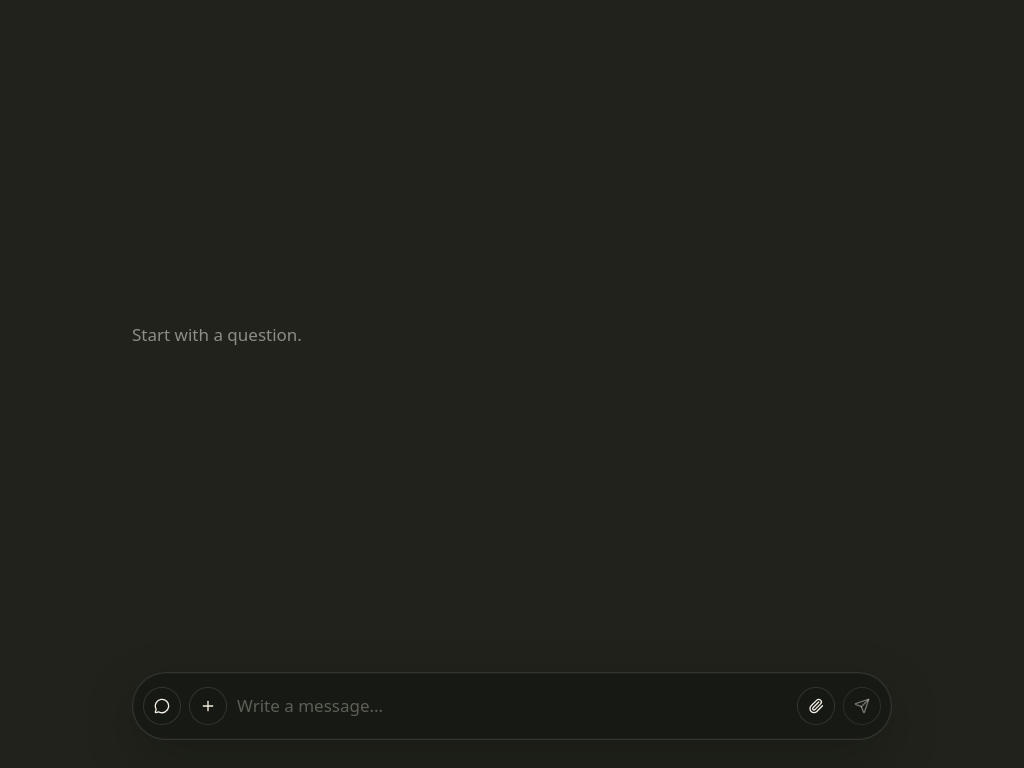
Test case: Noloong app chat regression harness › does not leave the chat inert if the sessions panel action fails
Click the button named "Sessions" at (162, 706), box [143, 687, 181, 725]
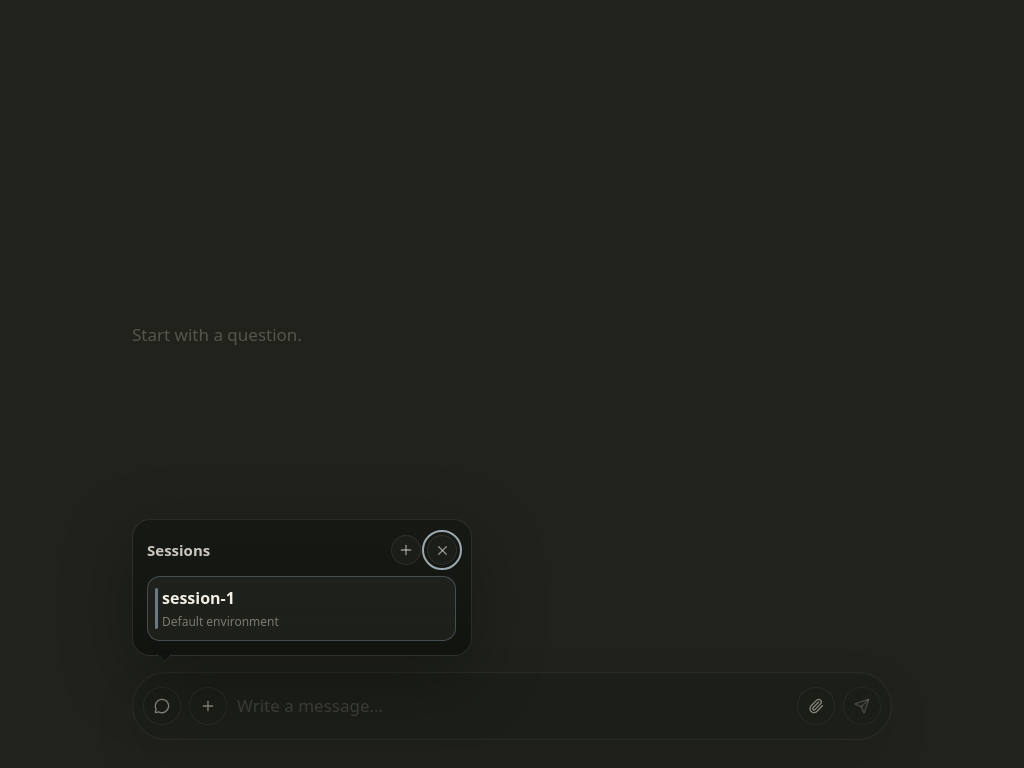
expect the dialog "Sessions" is shown: met, box [132, 519, 472, 656]
Click the button named "Create session" in the row of "Sessions" at (406, 550), box [391, 535, 421, 565]
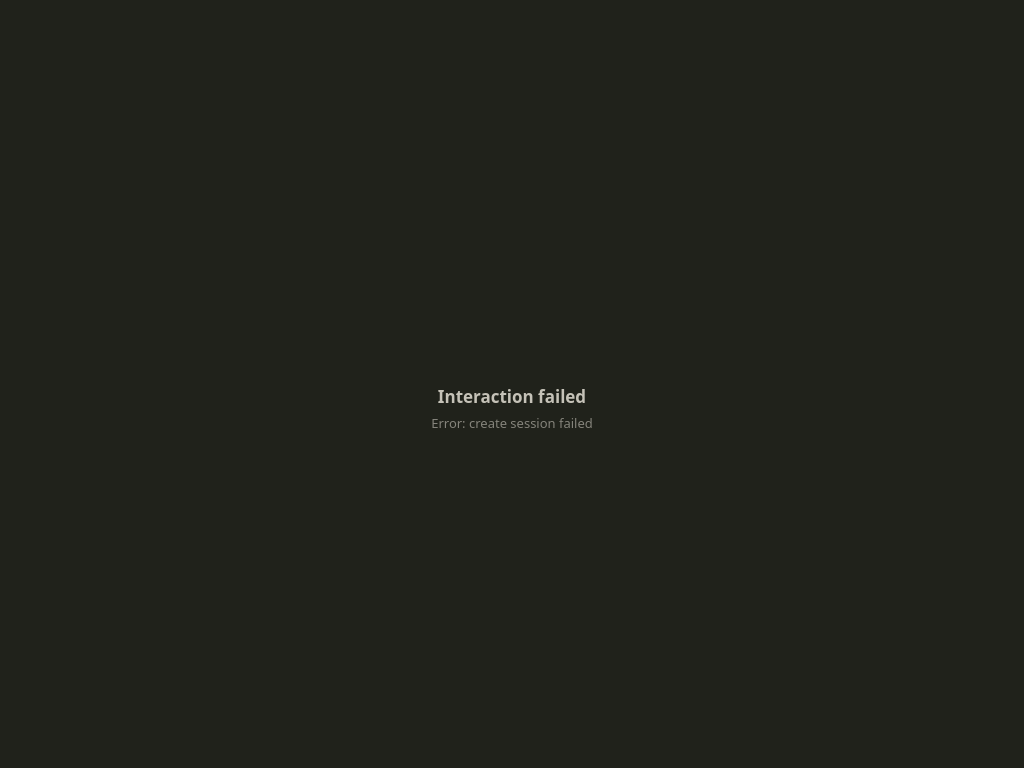
expect the message shows "Interaction failed": met, box [438, 385, 586, 408]
expect the heading "Sessions" is gone: met
expect the heading "Interaction failed" is shown: met, box [431, 386, 593, 407]
